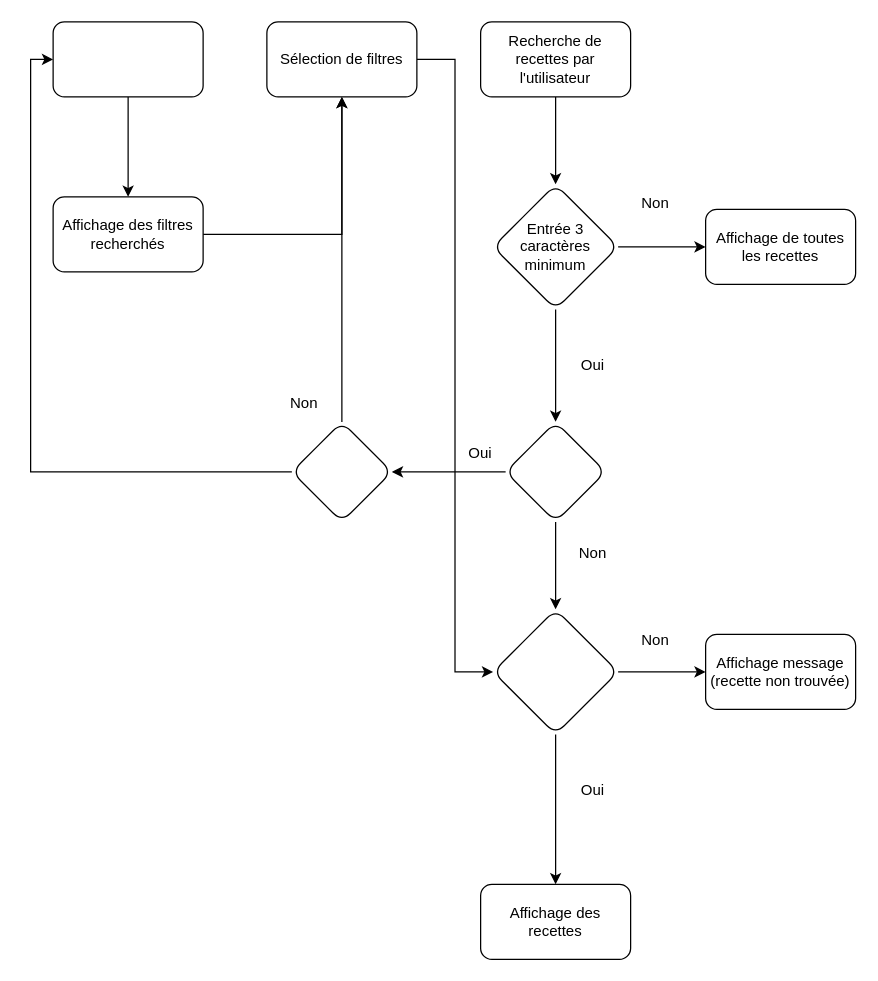
Image size: 878x981. Some labels were removed from this diagram. The box of each missing label's shape, as (x1, y1, x2, y2) in pixels:
Avec filtres ?: (504, 421, 606, 522)
Correspondance avec des recettes: (492, 608, 618, 734)
Recherche de filtres: (52, 21, 203, 97)
Recherche de filtres ?: (291, 421, 392, 522)
